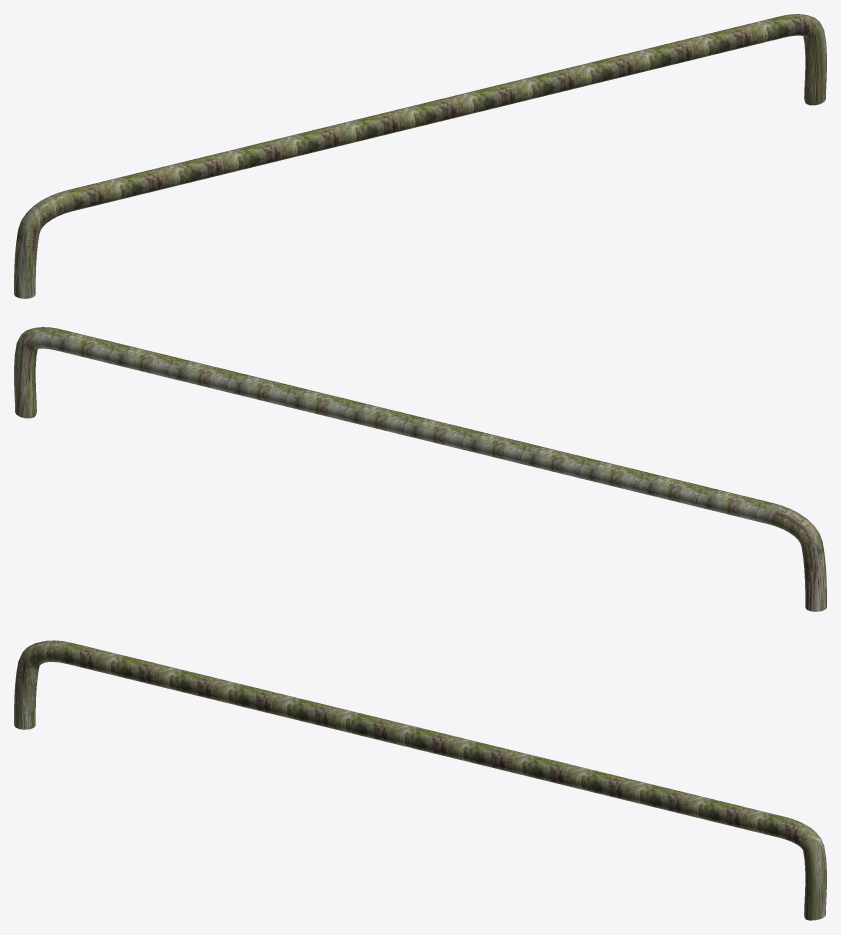
File: LEVEL-01-PIPE-02.fbx
3 renders of one model, top to bottom at view 1: azimuth 30°, elevation 25°; view 2: azimuth 150°, elevation 25°; view 3: azimuth 330°, elevation 25°, orthographic.
Parts seen in each view (by area): view 1: Shape006; view 2: Shape006; view 3: Shape006.
Boxes of the visible parts, bbox=[...] form: Shape006: bbox=[14, 14, 826, 298]; Shape006: bbox=[14, 327, 826, 611]; Shape006: bbox=[14, 640, 826, 920].
Bounding box in the file's own units: 645 × 70.56 × 15.
